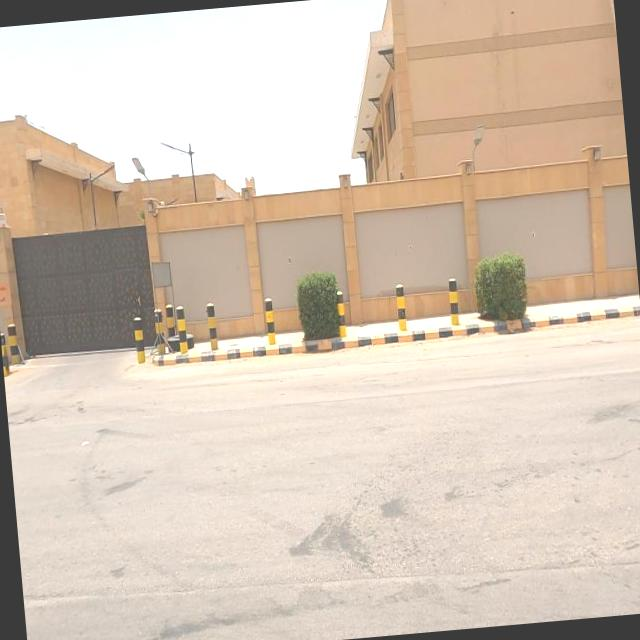debris: (148, 296, 212, 369)
